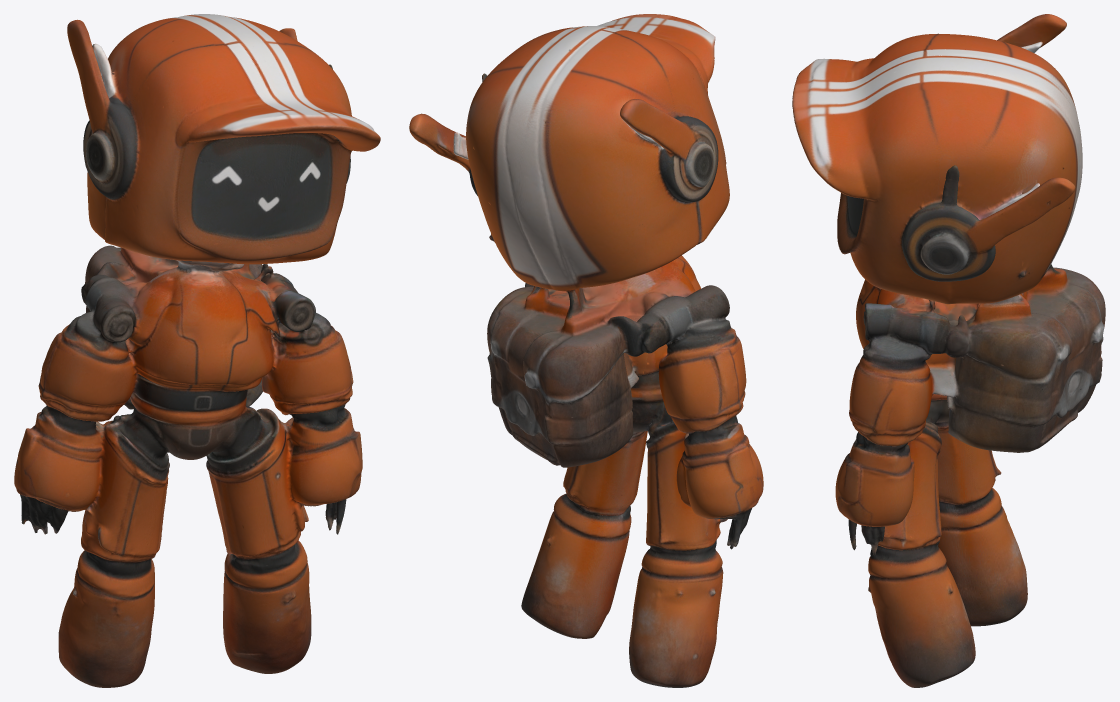
The model's file is robot-model.glb.
The picture shows the model from 3 angles, left to right: view 1: azimuth 30°, elevation 25°; view 2: azimuth 150°, elevation 25°; view 3: azimuth 270°, elevation 25°; orthographic projection. The views are drawn at different scales.
Bounding box in the file's own units: 1.04 × 2 × 0.928.
Materials: 1 (1 with a texture image).
